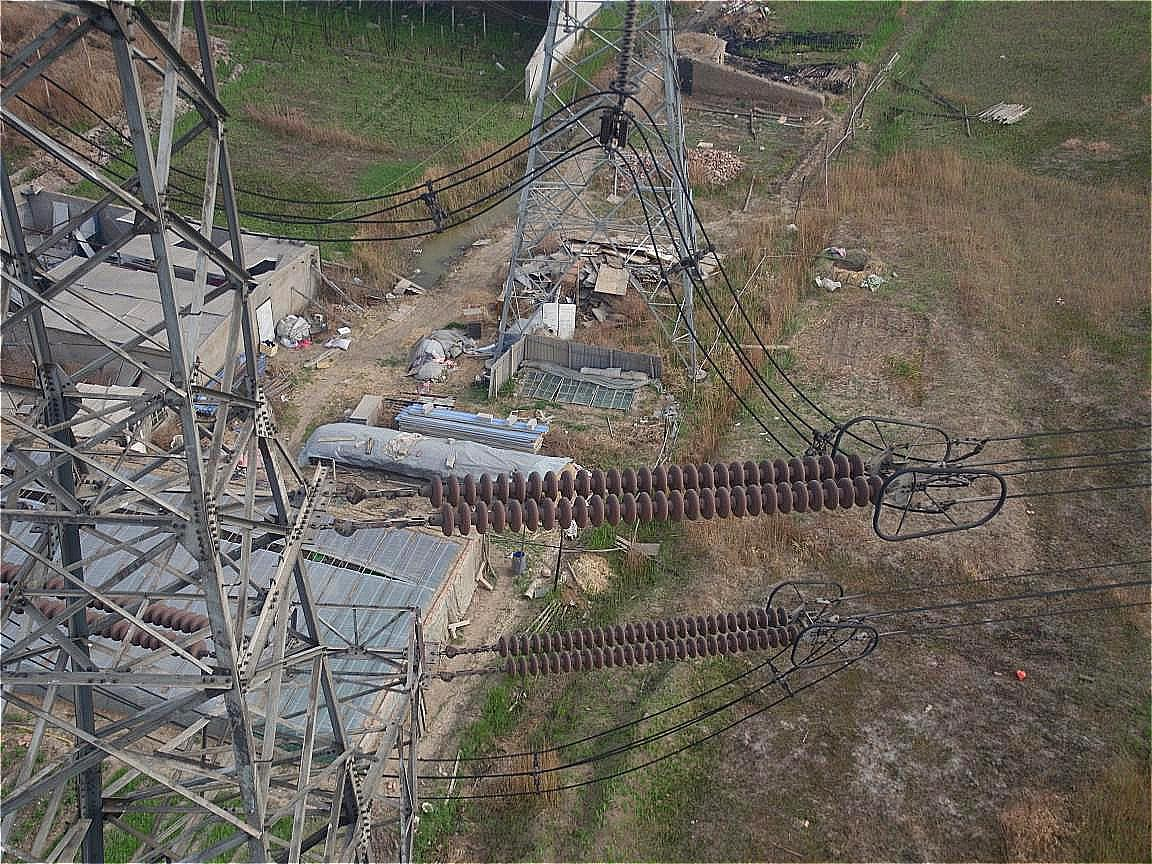insultor1: (429, 452, 886, 535), (498, 604, 802, 679)
